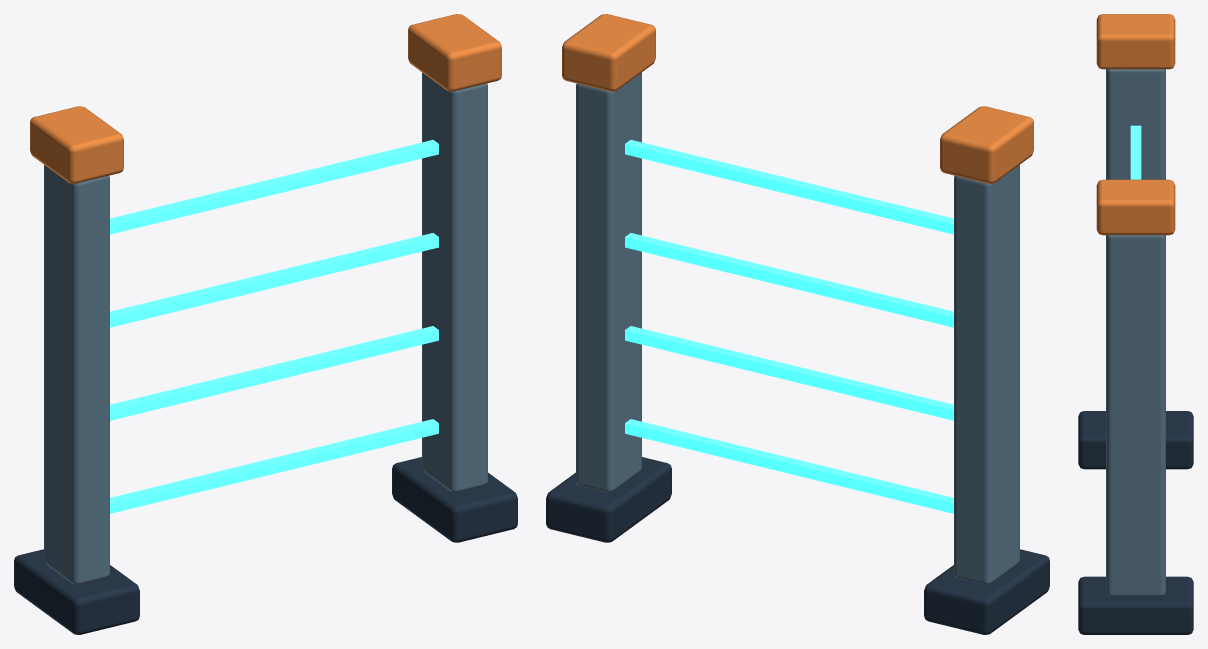
Rendered from energy-gate.glb.
The picture shows the model from 3 angles, left to right: view 1: azimuth 30°, elevation 25°; view 2: azimuth 150°, elevation 25°; view 3: azimuth 270°, elevation 25°; orthographic projection. The views are drawn at different scales.
Parts seen in each view (by area): view 1: post--0.85, post-0.85, base-0.85, base--0.85, cap-0.85, cap--0.85, beam-1.6, beam-0.4, beam-0.8, beam-1.2; view 2: post--0.85, post-0.85, base-0.85, base--0.85, cap-0.85, cap--0.85, beam-1.6, beam-0.4, beam-0.8, beam-1.2; view 3: post-0.85, post--0.85, base-0.85, cap-0.85, cap--0.85, base--0.85, beam-1.6.
Boxes of the visible parts, x1,y1,x2,y2 form: post--0.85: (44, 165, 109, 584); post-0.85: (422, 72, 487, 492); base-0.85: (392, 457, 517, 542); base--0.85: (14, 549, 139, 634); cap-0.85: (408, 14, 501, 91); cap--0.85: (30, 106, 123, 183); beam-1.6: (110, 140, 438, 234); beam-0.4: (110, 419, 438, 513); beam-0.8: (110, 326, 438, 420); beam-1.2: (110, 233, 438, 327); post--0.85: (954, 165, 1019, 584); post-0.85: (576, 72, 641, 492); base-0.85: (546, 457, 671, 542); base--0.85: (924, 549, 1049, 634); cap-0.85: (562, 14, 655, 91); cap--0.85: (940, 106, 1033, 183); beam-1.6: (625, 140, 953, 234); beam-0.4: (625, 419, 953, 513); beam-0.8: (625, 326, 953, 420); beam-1.2: (625, 233, 953, 327); post-0.85: (1106, 235, 1165, 596); post--0.85: (1106, 69, 1165, 179); base-0.85: (1078, 576, 1193, 634); cap-0.85: (1096, 179, 1175, 235); cap--0.85: (1096, 14, 1175, 69); base--0.85: (1078, 411, 1193, 469); beam-1.6: (1130, 125, 1141, 179).
Size of the model in its own units: 2 by 2.07 by 0.5.
